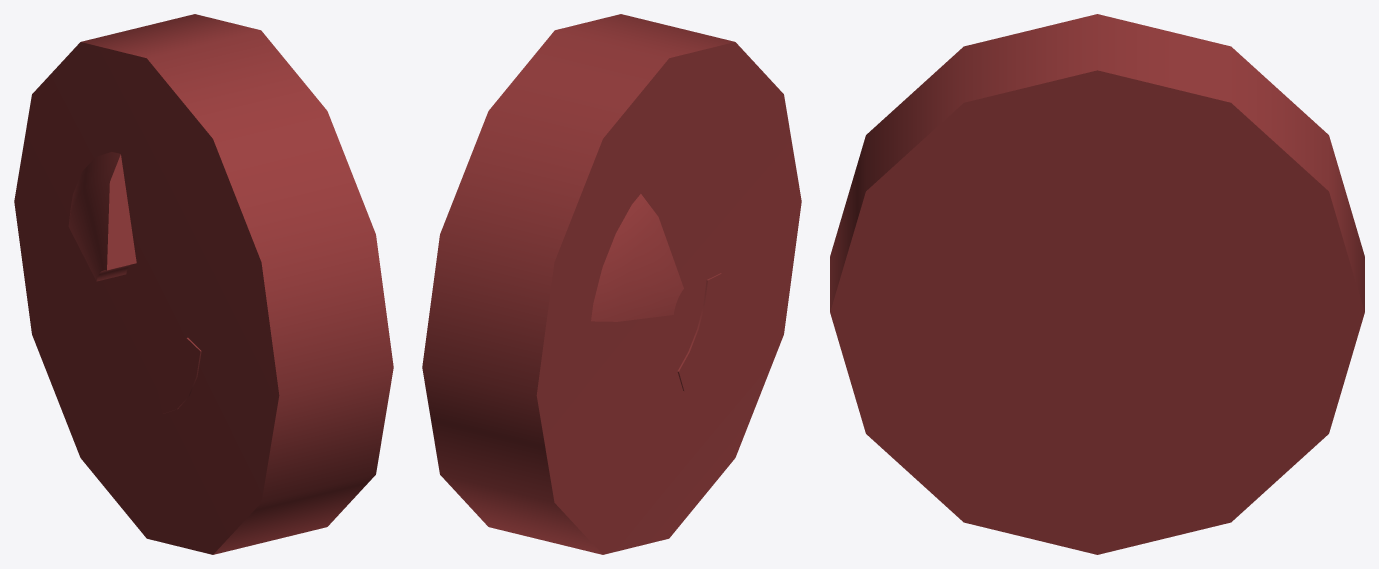
3 views of the same model, side by side, from view 1: azimuth 30°, elevation 25°; view 2: azimuth 150°, elevation 25°; view 3: azimuth 270°, elevation 25° (orthographic).
Visible parts, largest first — view 1: CJb3_Lod_2; view 2: CJb3_Lod_2; view 3: CJb3_Lod_2.
Boxes of the visible parts, bbox=[...] form: CJb3_Lod_2: bbox=[14, 14, 393, 554]; CJb3_Lod_2: bbox=[422, 14, 801, 554]; CJb3_Lod_2: bbox=[830, 14, 1364, 554].
Size of the model in its own units: 17.05 by 55.19 by 55.19.
